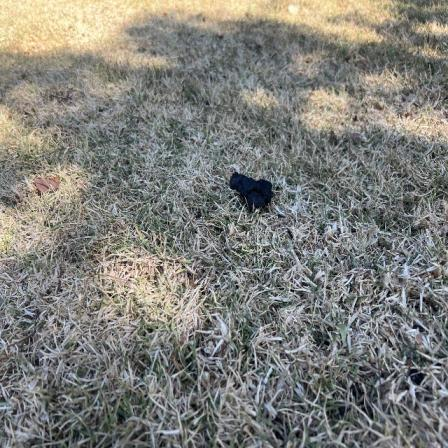dog-poop: (226, 162, 281, 218)
